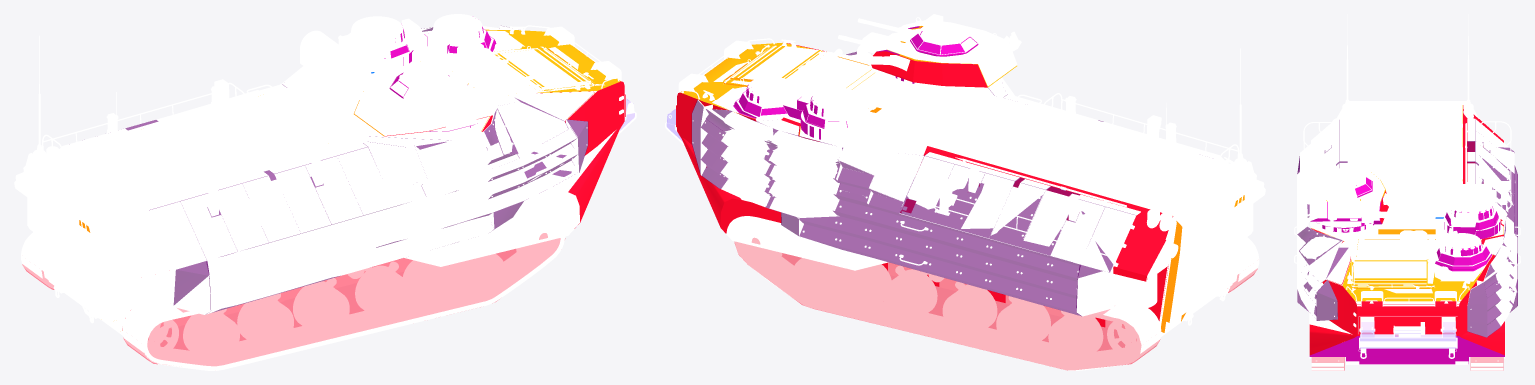
File: AAVP.gltf
3 renders of one model, left to right at view 1: azimuth 30°, elevation 25°; view 2: azimuth 150°, elevation 25°; view 3: azimuth 270°, elevation 25°, orthographic. The views are drawn at different scales.
Parts seen in each view (by area): view 1: 46_4, 46_3, AAVP7A1_Track_COL_11, 46, 46_7, AAVP7A1_SideArmor_Col_18, AAVP7A1_Col_1, AAVP7A1_Col, 46_2, 46_5, 46_1; view 2: 46_3, 46_4, AAVP7A1_SideArmor_Col_18, AAVP7A1_Track_COL2, 46_1, AAVP7A1_Col_1, 46_7, AAVP7A1_Col, AAVP7A1_Turret_Col, 46_2, AAVP7A1_Col_2, 46_5 (+2 smaller); view 3: 46_4, 46_3, AAVP7A1_Col_1, AAVP7A1_Col_2, AAVP7A1_SideArmor_Col_18, 46_7, AAVP7A1_Col, aavp_watershield_col_8, 46_2, 46_5, AAVP7A1_Turret_Col_2, 46_1 (+4 smaller).
Boxes of the visible parts, x1=… form: 46_4: x1=14, y1=14, x2=636, y2=363; 46_3: x1=42, y1=25, x2=587, y2=314; AAVP7A1_Track_COL_11: x1=122, y1=233, x2=565, y2=365; 46: x1=122, y1=233, x2=565, y2=370; 46_7: x1=350, y1=57, x2=504, y2=135; AAVP7A1_SideArmor_Col_18: x1=125, y1=27, x2=588, y2=313; AAVP7A1_Col_1: x1=482, y1=81, x2=625, y2=228; AAVP7A1_Col: x1=79, y1=29, x2=620, y2=232; 46_2: x1=301, y1=31, x2=361, y2=91; 46_5: x1=438, y1=57, x2=533, y2=89; 46_1: x1=21, y1=233, x2=53, y2=288; 46_3: x1=692, y1=52, x2=1239, y2=316; 46_4: x1=665, y1=38, x2=1265, y2=364; AAVP7A1_SideArmor_Col_18: x1=691, y1=51, x2=1133, y2=316; AAVP7A1_Track_COL2: x1=734, y1=238, x2=1160, y2=370; 46_1: x1=735, y1=238, x2=1161, y2=370; AAVP7A1_Col_1: x1=676, y1=43, x2=1173, y2=327; 46_7: x1=872, y1=14, x2=1021, y2=86; AAVP7A1_Col: x1=681, y1=42, x2=1244, y2=332; AAVP7A1_Turret_Col: x1=871, y1=51, x2=987, y2=87; 46_2: x1=862, y1=90, x2=926, y2=147; AAVP7A1_Col_2: x1=733, y1=76, x2=914, y2=139; 46_5: x1=838, y1=18, x2=919, y2=58; 46_4: x1=1309, y1=14, x2=1505, y2=368; 46_3: x1=1294, y1=103, x2=1520, y2=337; AAVP7A1_Col_1: x1=1309, y1=105, x2=1504, y2=355; AAVP7A1_Col_2: x1=1309, y1=206, x2=1504, y2=364; AAVP7A1_SideArmor_Col_18: x1=1297, y1=119, x2=1517, y2=337; 46_7: x1=1309, y1=156, x2=1393, y2=227; AAVP7A1_Col: x1=1311, y1=105, x2=1503, y2=301; aavp_watershield_col_8: x1=1360, y1=321, x2=1456, y2=348; 46_2: x1=1426, y1=184, x2=1490, y2=210; 46_5: x1=1328, y1=199, x2=1395, y2=231; AAVP7A1_Turret_Col_2: x1=1310, y1=177, x2=1382, y2=228; 46_1: x1=1471, y1=357, x2=1503, y2=370.
Size of the model in its own units: 8.8 by 4.33 by 4.02.
